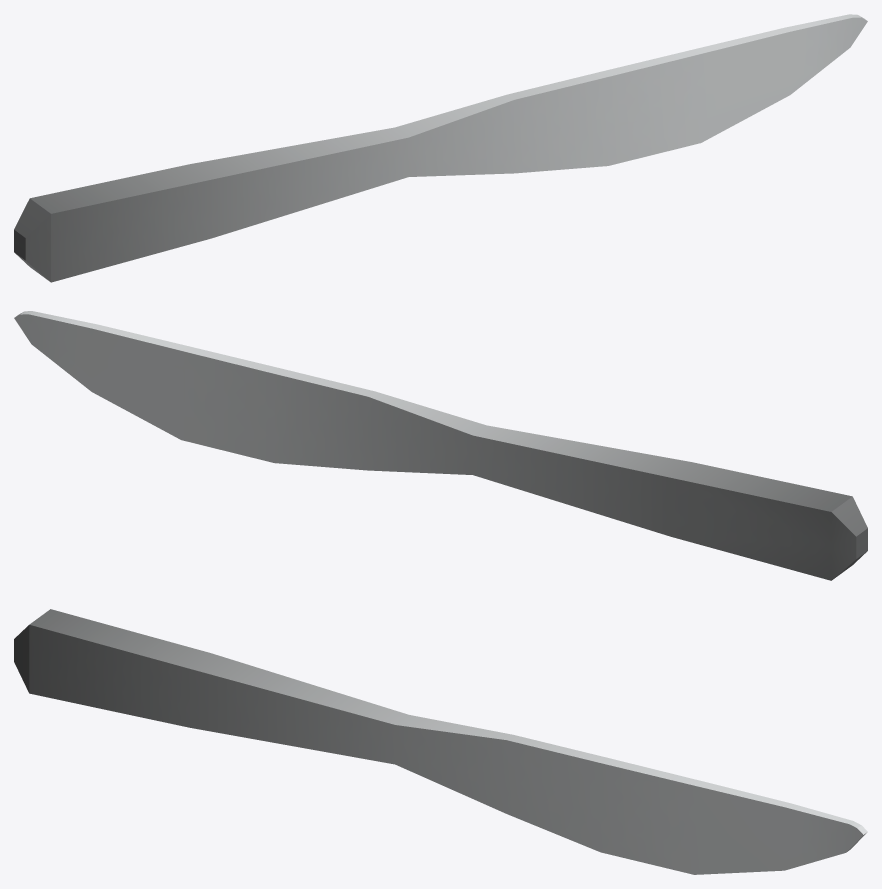
File: Knife.fbx
The picture shows the model from 3 angles, top to bottom: view 1: azimuth 30°, elevation 25°; view 2: azimuth 150°, elevation 25°; view 3: azimuth 330°, elevation 25°; orthographic projection.
Parts seen in each view (by area): view 1: Knife; view 2: Knife; view 3: Knife.
Part boxes in pixels (<box>): Knife: <box>14,14,867,282</box>; Knife: <box>14,311,867,580</box>; Knife: <box>14,609,867,874</box>.
Size of the model in its own units: 22.07 by 2.36 by 0.9643.
